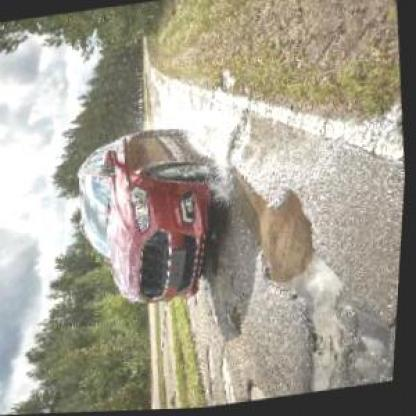pothole: (252, 187, 326, 308), (224, 301, 247, 338)
